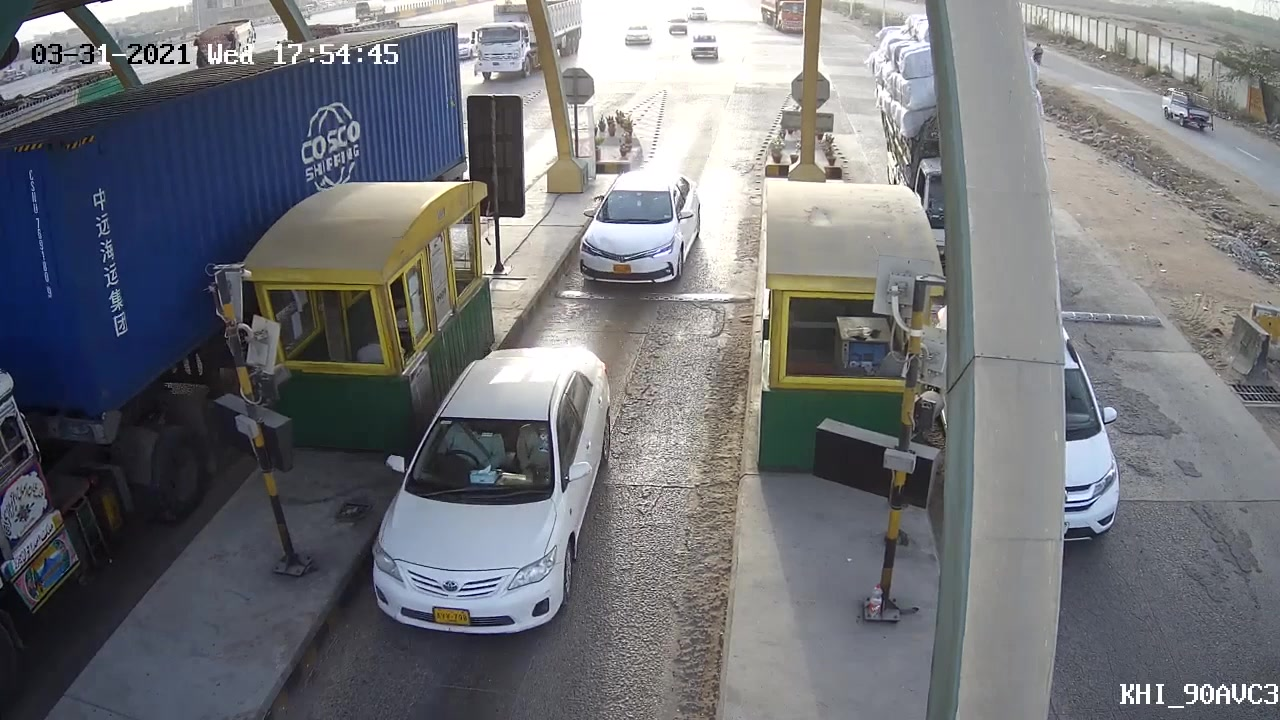F1: (370, 344, 619, 639), (572, 163, 706, 285)
